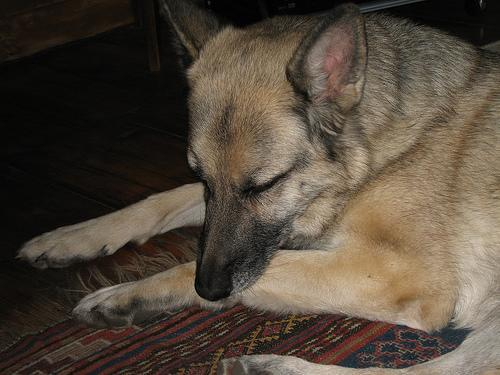German_shepherd: (14, 0, 499, 374)
